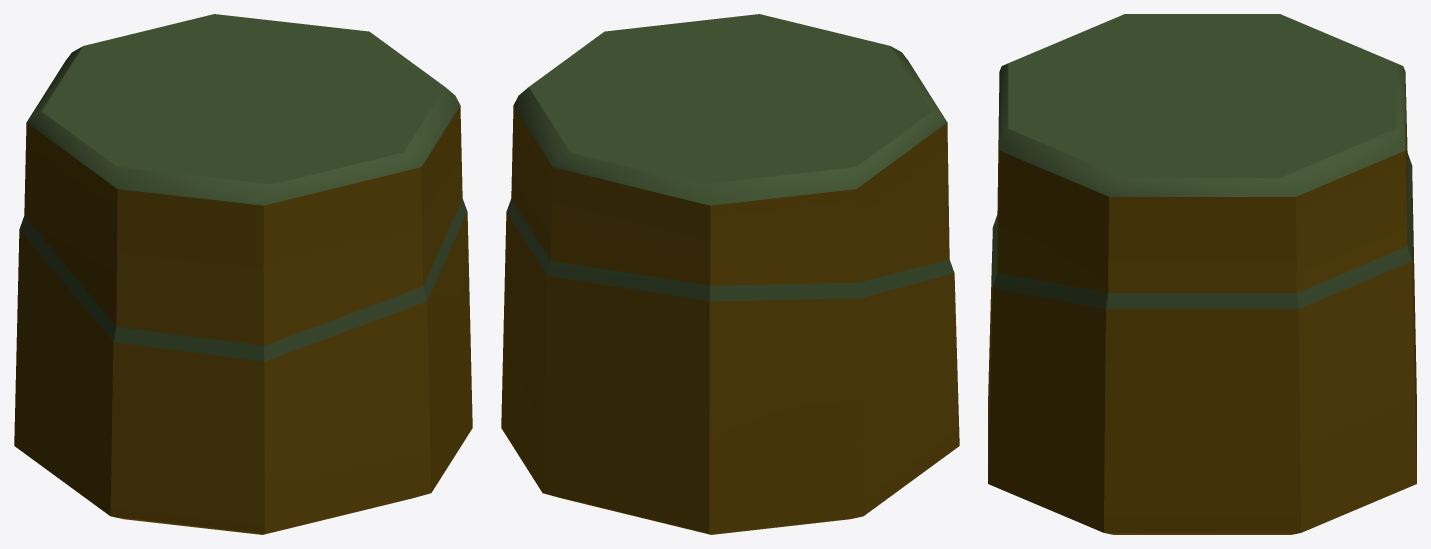
Rendered from envCliff_20x20b2.fbx.
3 renders of one model, left to right at view 1: azimuth 30°, elevation 25°; view 2: azimuth 150°, elevation 25°; view 3: azimuth 270°, elevation 25°, orthographic. The views are drawn at different scales.
Visible parts, largest first — view 1: envCliff_20x20b; view 2: envCliff_20x20b; view 3: envCliff_20x20b.
Part boxes in pixels (box(x1,y1,x2,y2)): envCliff_20x20b: box(14, 14, 472, 534); envCliff_20x20b: box(501, 14, 959, 534); envCliff_20x20b: box(988, 14, 1416, 534).
Size of the model in its own units: 21.13 by 19.43 by 21.13.
